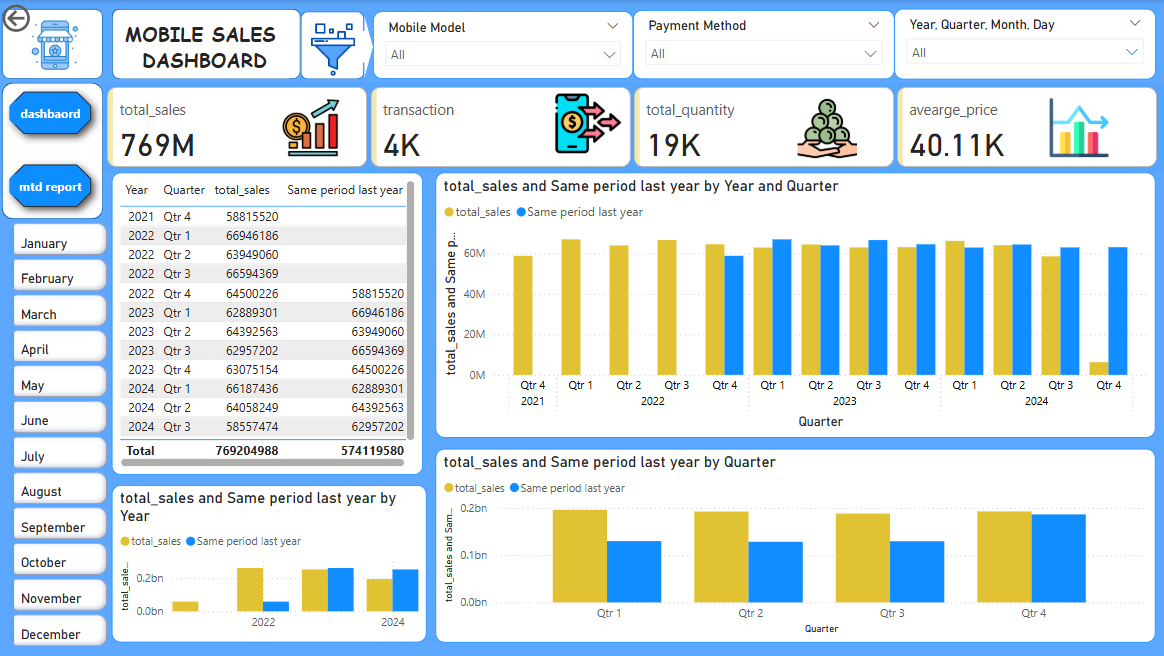

The dashboard page shown, as its layout file describes it:
{"tool":"powerbi","page":{"name":"mtd report","canvas":[1280,720],"ordinal":1},"visuals":[{"type":"shape","box":[3.6,9.7,111,77.2],"z":0},{"type":"shape","box":[3.8,90,111.2,150],"z":1000},{"type":"cardVisual","fields":{"Data":["mobile sales data.total_sales","mobile sales data.transaction","mobile sales data.total_quantity","mobile sales data.avearge_price"]},"box":[115,90.7,1155.8,97.4],"z":2000},{"type":"image","box":[0,14.5,124.3,68.8],"z":3000},{"type":"image","box":[540.5,95.3,214.7,82],"z":4000},{"type":"image","box":[811.9,101.3,196.6,79.6],"z":5000},{"type":"image","box":[1093.7,102.9,177,74.1],"z":6000},{"type":"image","box":[253.4,105,179.8,72.4],"z":7000},{"type":"slicer","fields":{"Values":["mobile sales data.Mobile Model"]},"box":[411.4,12.1,285.9,74.8],"z":8000},{"type":"slicer","fields":{"Values":["mobile sales data.Payment Method"]},"box":[697.3,10.9,287.1,76],"z":9000},{"type":"slicer","fields":{"Values":["custom_calendar.Date.Variation.Date Hierarchy.Year","custom_calendar.Date.Variation.Date Hierarchy.Quarter","custom_calendar.Date.Variation.Date Hierarchy.Month","custom_calendar.Date.Variation.Date Hierarchy.Day"]},"box":[984.5,9.7,287.1,77.2],"z":10000},{"type":"shape","box":[331.8,12.1,70,74.8],"z":11000},{"type":"image","box":[333,19.3,68.8,71.2],"z":12000},{"type":"shape","box":[392.1,16.9,19.3,70],"z":13000},{"type":"shape","box":[124.3,9.7,207.5,77.2],"z":14000},{"type":"textbox","box":[135.1,16.9,184.6,70],"z":15000},{"type":"actionButton","box":[0,0,100,40],"z":16000},{"type":"lineChart","fields":{"Y":["mobile sales data.mtd"],"Category":["custom_calendar.Date.Variation.Date Hierarchy.Year","custom_calendar.Date.Variation.Date Hierarchy.Month","custom_calendar.Date.Variation.Date Hierarchy.Day"]},"box":[135.3,198.9,1135.5,510.2],"z":17000},{"type":"advancedSlicerVisual","fields":{"Values":["custom_calendar.Date.Variation.Date Hierarchy.Month"]},"box":[6.9,240.1,118,480.3],"z":18000},{"type":"pageNavigator","box":[0,87.8,115.3,152.3],"z":19000}]}

Visuals, with their boxes on the page's 1280x720 design canvas (x1, y1, x2, y2). These are canvas units, not pixel positions in the 1164x656 screenshot, which may show the page scaled, cropped or inside an application window:
shape: locate(4, 10, 115, 87)
shape: locate(4, 90, 115, 240)
cardVisual - mobile sales data.total_sales x mobile sales data.transaction: locate(115, 91, 1271, 188)
image: locate(0, 14, 124, 83)
image: locate(540, 95, 755, 177)
image: locate(812, 101, 1008, 181)
image: locate(1094, 103, 1271, 177)
image: locate(253, 105, 433, 177)
slicer - mobile sales data.Mobile Model: locate(411, 12, 697, 87)
slicer - mobile sales data.Payment Method: locate(697, 11, 984, 87)
slicer - custom_calendar.Date.Variation.Date Hierarchy.Year x custom_calendar.Date.Variation.Date Hierarchy.Quarter: locate(984, 10, 1272, 87)
shape: locate(332, 12, 402, 87)
image: locate(333, 19, 402, 90)
shape: locate(392, 17, 411, 87)
shape: locate(124, 10, 332, 87)
textbox: locate(135, 17, 320, 87)
actionButton: locate(0, 0, 100, 40)
lineChart - mobile sales data.mtd x custom_calendar.Date.Variation.Date Hierarchy.Year: locate(135, 199, 1271, 709)
advancedSlicerVisual - custom_calendar.Date.Variation.Date Hierarchy.Month: locate(7, 240, 125, 720)
pageNavigator: locate(0, 88, 115, 240)
